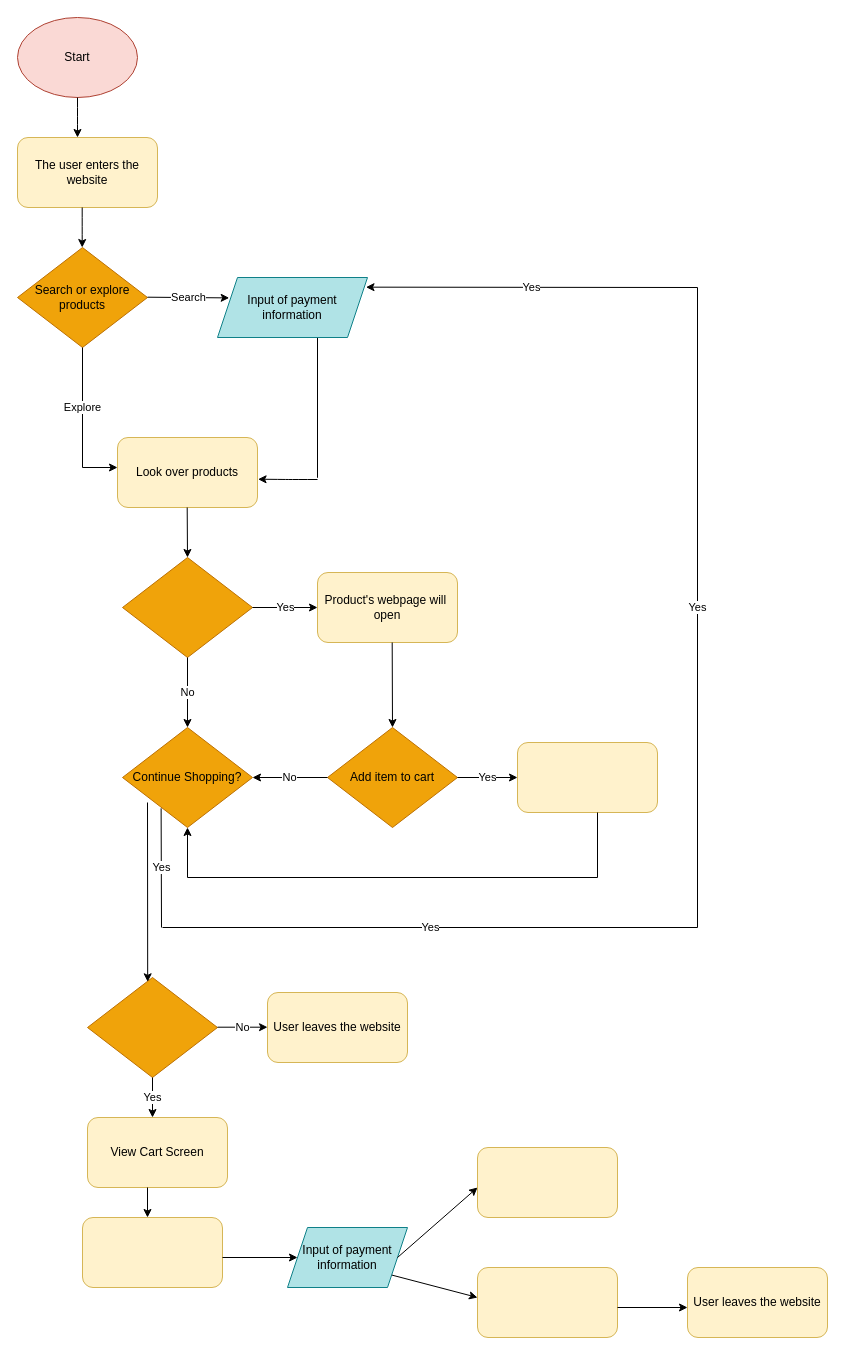
This 845x1355 diagram has some shape labels left out. The shapes that lost their labels are listed below. From the top down, each one's centre as x and y in pixels, then its label:
the point at 187,607: View a specific product
the point at 587,777: Added to cart confirmation
the point at 152,1027: Checkout
the point at 547,1182: User will receive an email
the point at 152,1252: View Payment Screen
the point at 547,1302: User will see a order confirmtation screen
